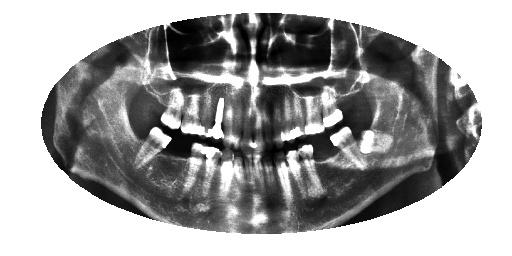i10healthy: (227, 146, 246, 200)
i11decay: (215, 143, 236, 200)
i12healthy: (201, 144, 224, 204)
i13healthy: (179, 136, 208, 206)
i14loss: (162, 121, 193, 182)
i15healthy: (132, 120, 172, 179)
i16loss: (120, 109, 152, 152)
i1healthy: (355, 123, 396, 158)
i2healthy: (326, 124, 369, 175)
i3healthy: (307, 131, 343, 180)
i4healthy: (293, 140, 325, 197)
i5healthy: (284, 144, 307, 198)
i6decay: (270, 148, 297, 203)
i7decay: (260, 145, 277, 206)
i8chipped: (251, 149, 266, 205)
i9decay: (241, 145, 255, 202)
u10healthy: (207, 91, 227, 146)
u11decay: (198, 89, 215, 142)
u12healthy: (181, 88, 206, 137)
u13healthy: (157, 82, 186, 135)
u2healthy: (316, 84, 346, 129)
u3healthy: (302, 91, 325, 138)
u4healthy: (279, 88, 306, 145)
u5decay: (268, 94, 286, 148)
u6chipped: (260, 97, 275, 151)
u7healthy: (251, 98, 268, 154)
u8healthy: (241, 101, 256, 155)
u9healthy: (223, 89, 243, 151)
